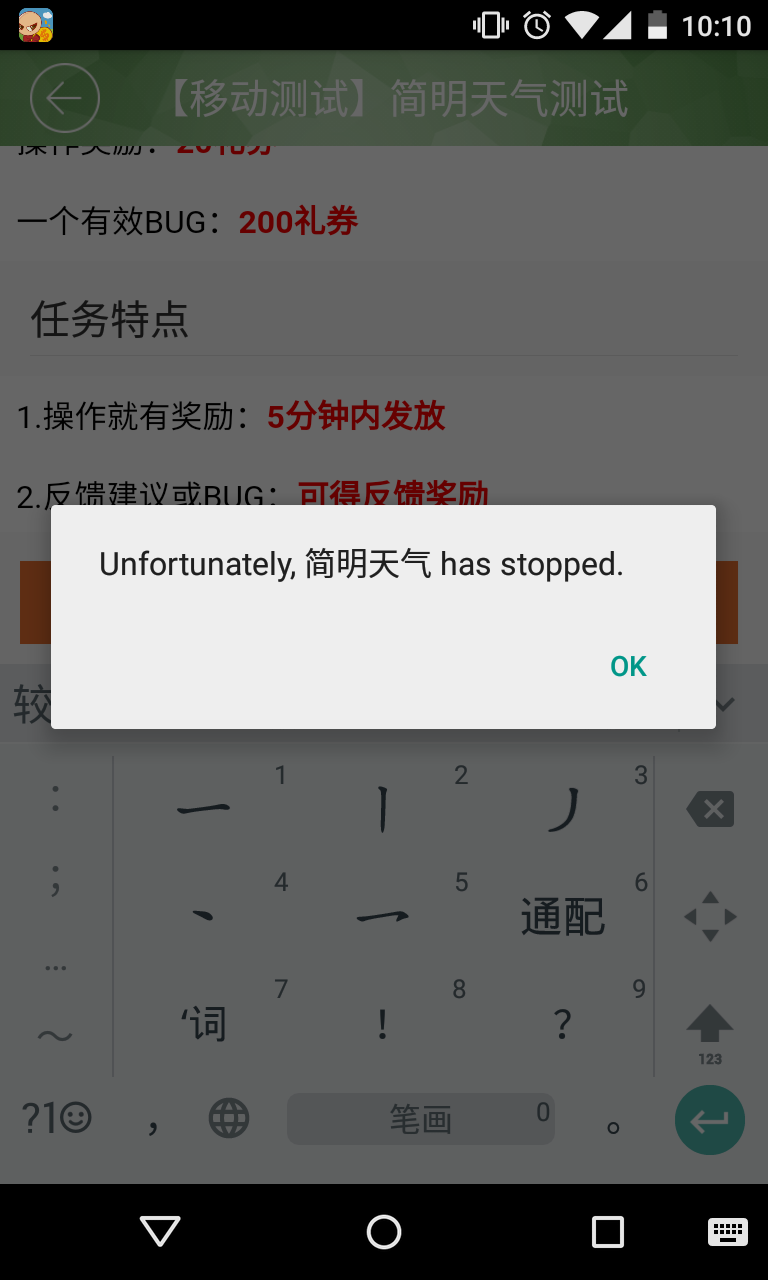alert: (41, 494, 732, 745)
